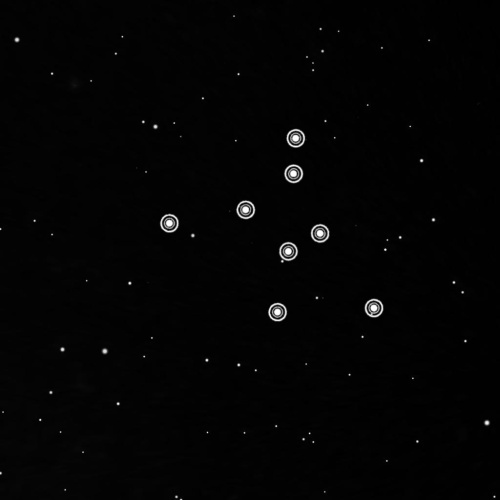hercules: (155, 124, 388, 326)
